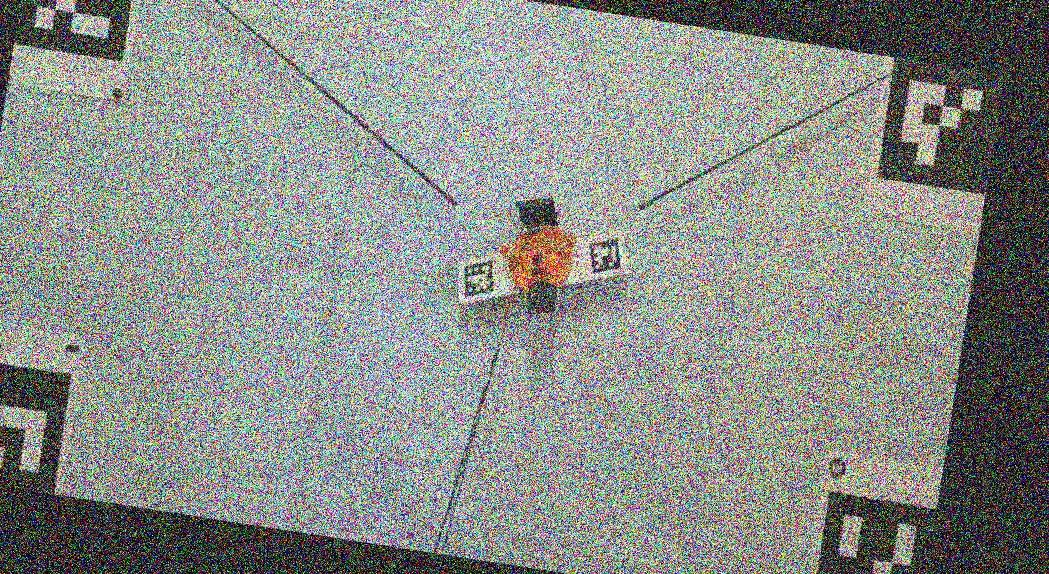robot: (502, 198, 577, 313)
